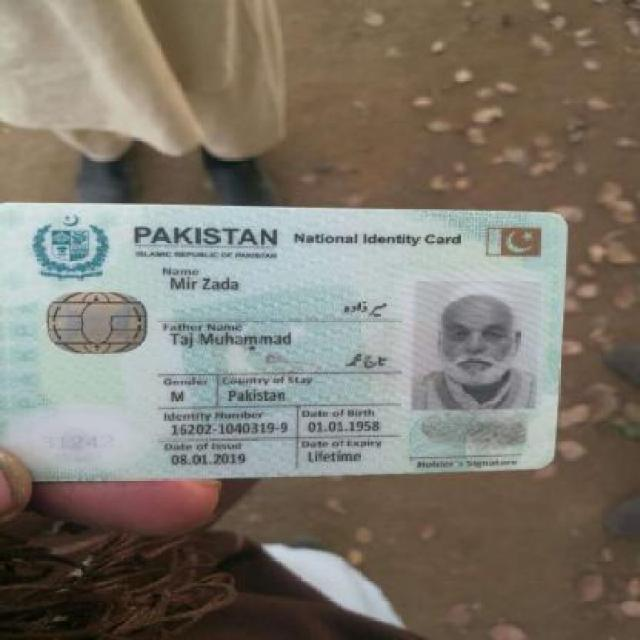Front: (0, 189, 568, 477)
